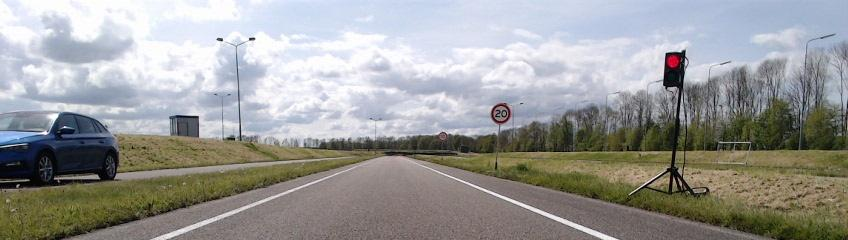Speed-limit-10km-h-: (438, 132, 447, 141)
Speed-limit-20km-h-: (491, 104, 511, 123)
TrafficLight-red: (664, 52, 684, 87)
